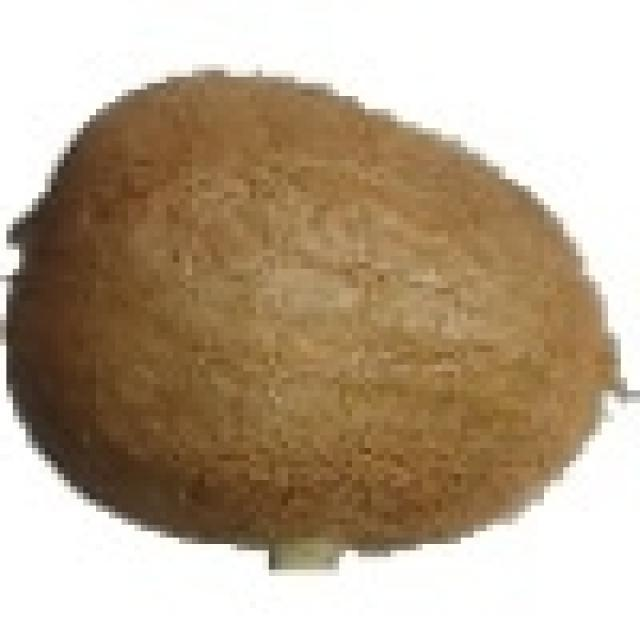kiwi: (9, 71, 611, 545)
